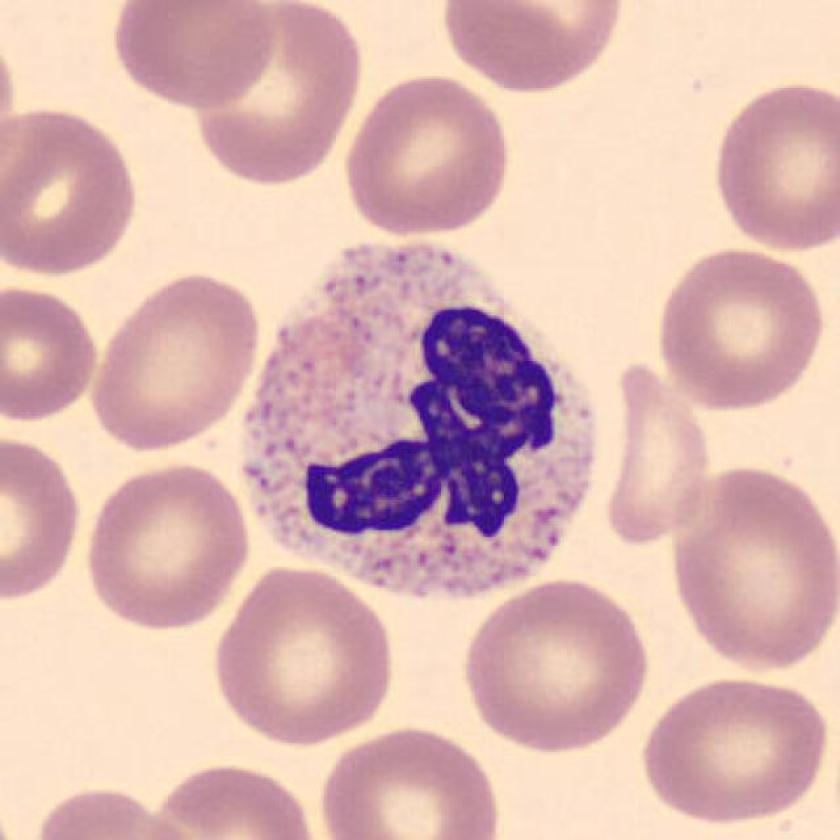neutrophil: (247, 246, 599, 597)
